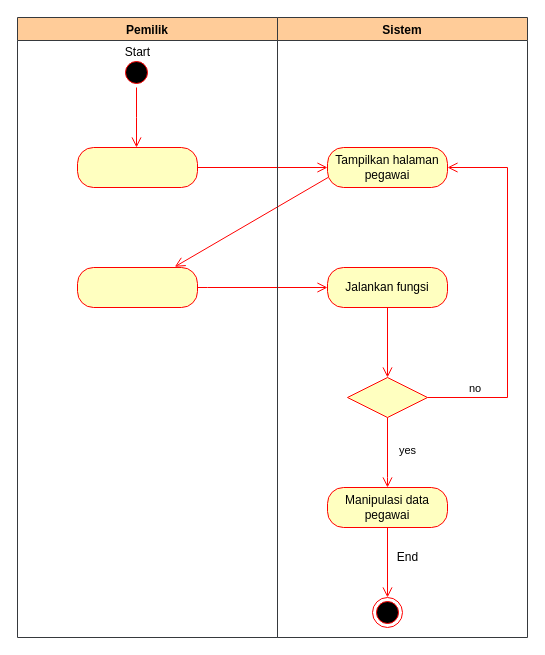
Some shapes in this 545 by 655 pixel diagram are drawn without their labels. The box of each missing label's shape, as (x1, y1, x2, y2) in pixels:
Buka halaman pegawai: (76, 146, 198, 188)
Pilih fungsi(Tambah, ubah, hapus): (76, 266, 198, 308)
